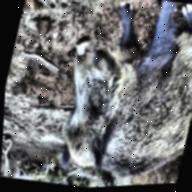boar: (31, 0, 192, 190)
